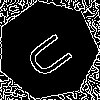U: (23, 25, 83, 82)
